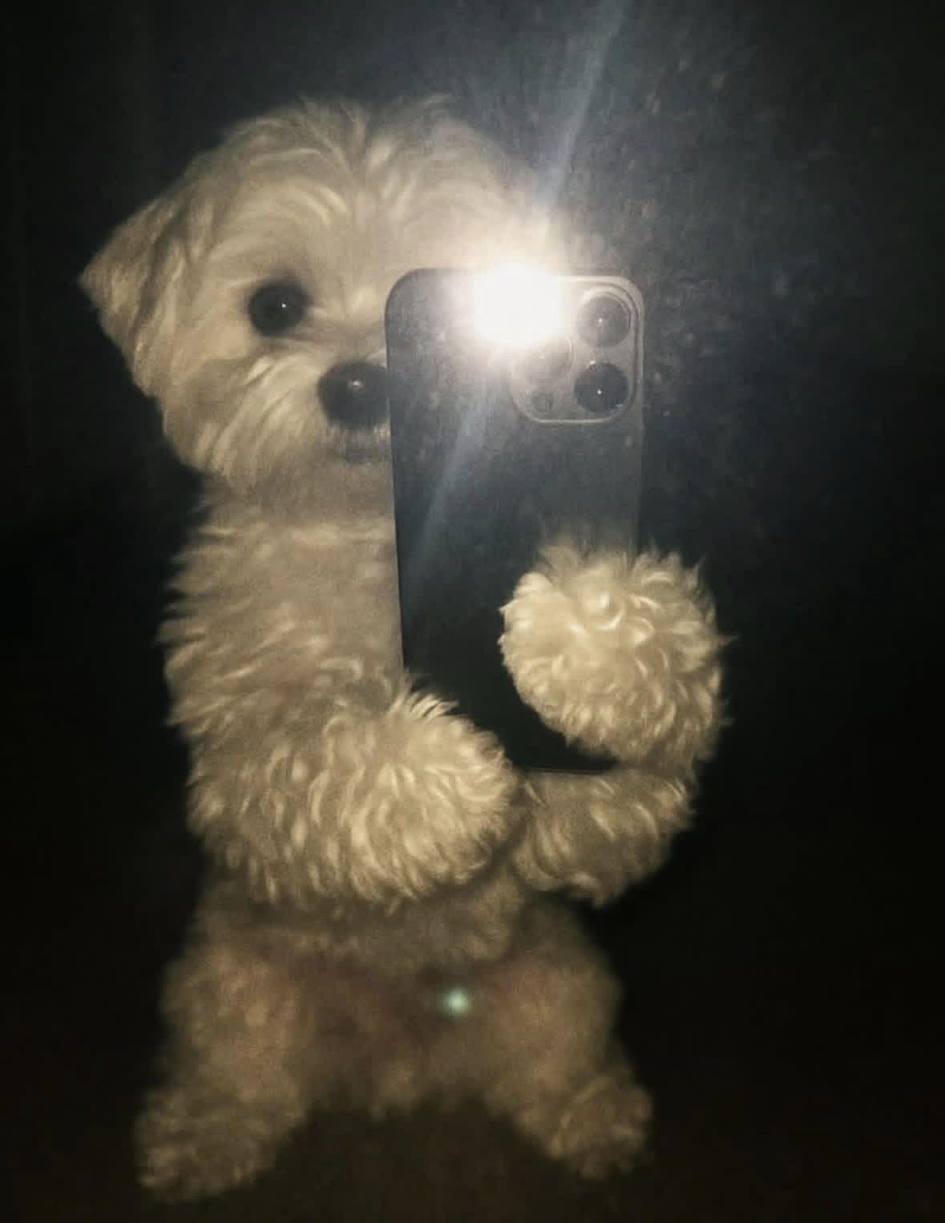puppy-dog: (79, 83, 736, 1202)
